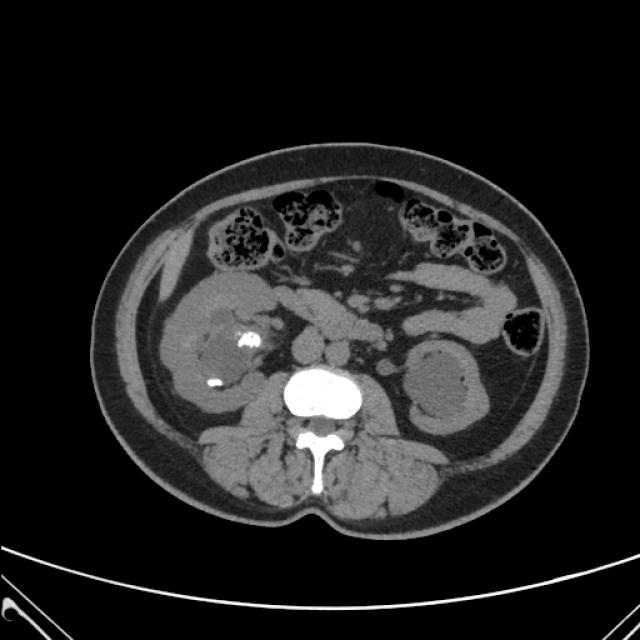kidney: (159, 270, 278, 414), (404, 341, 489, 436)
stone: (237, 328, 260, 348), (208, 376, 224, 387)
